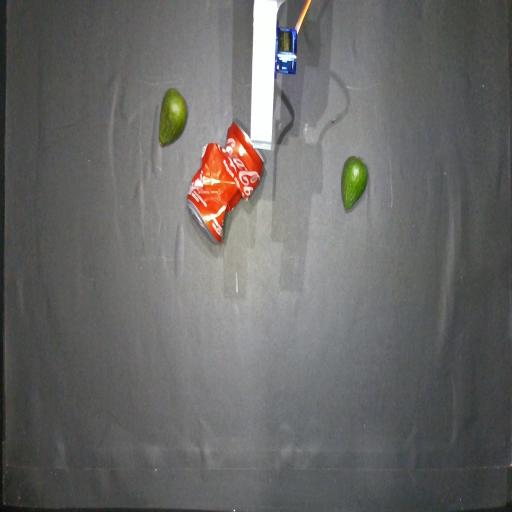higo: (159, 88, 188, 146), (341, 156, 367, 210)
lata_defectuoso: (188, 122, 263, 243)
